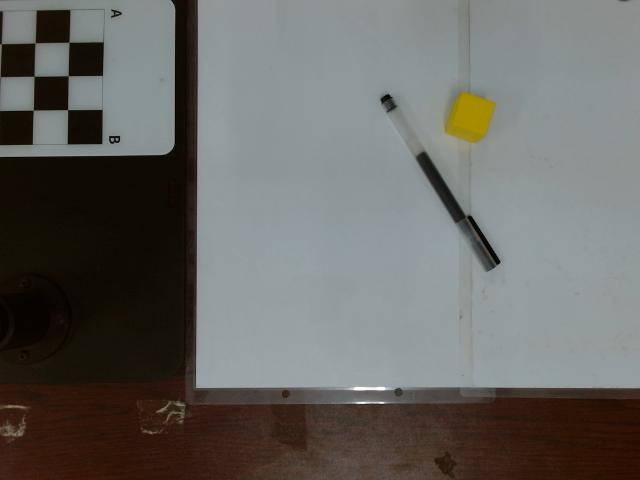PEN: (375, 90, 502, 273)
